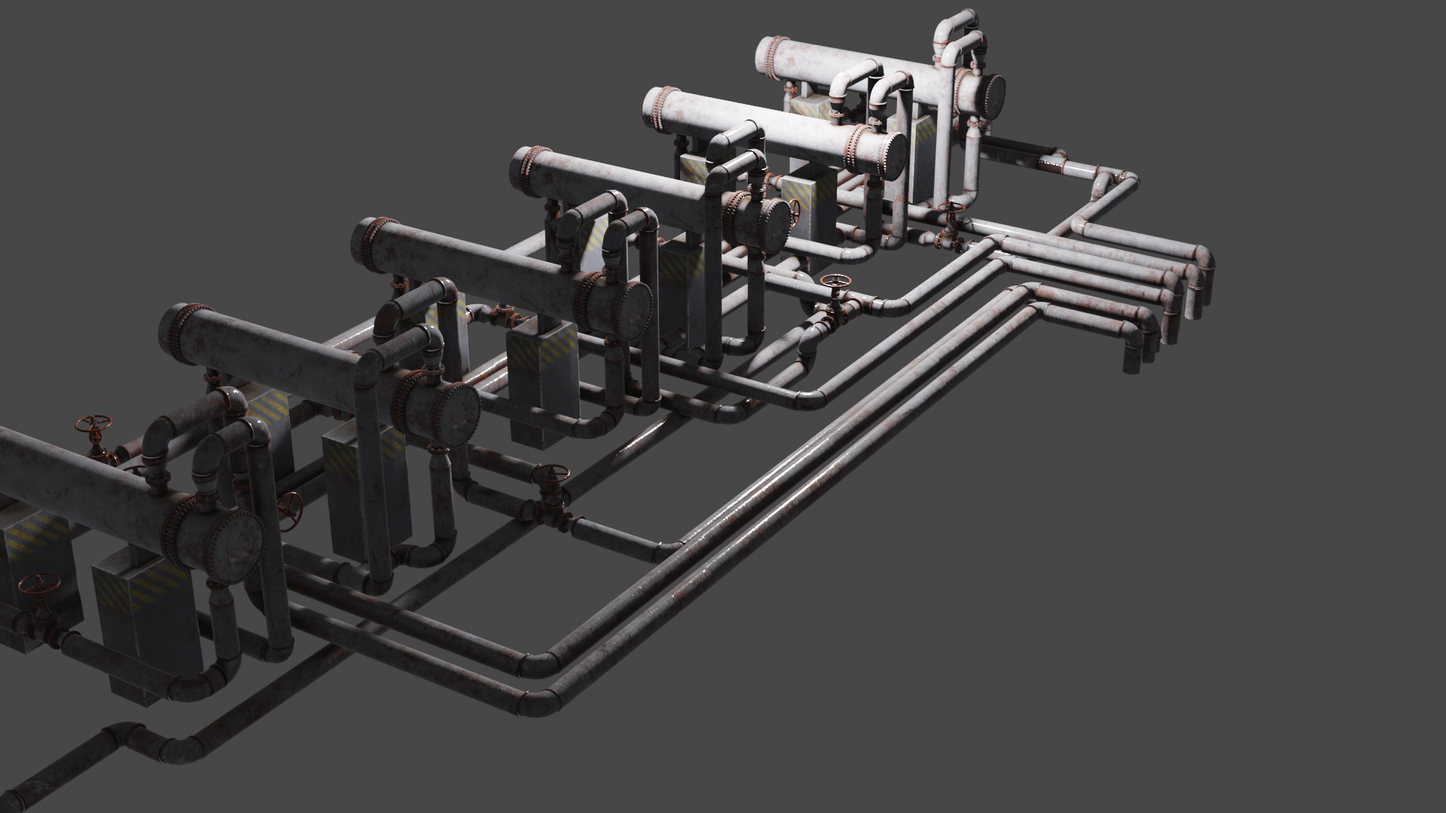HE_1: (0, 422, 264, 580)
HE_2: (154, 300, 483, 450)
HE_3: (346, 206, 655, 339)
HE_4: (507, 142, 793, 254)
HE_5: (635, 83, 910, 177)
HE_6: (750, 36, 1008, 120)
